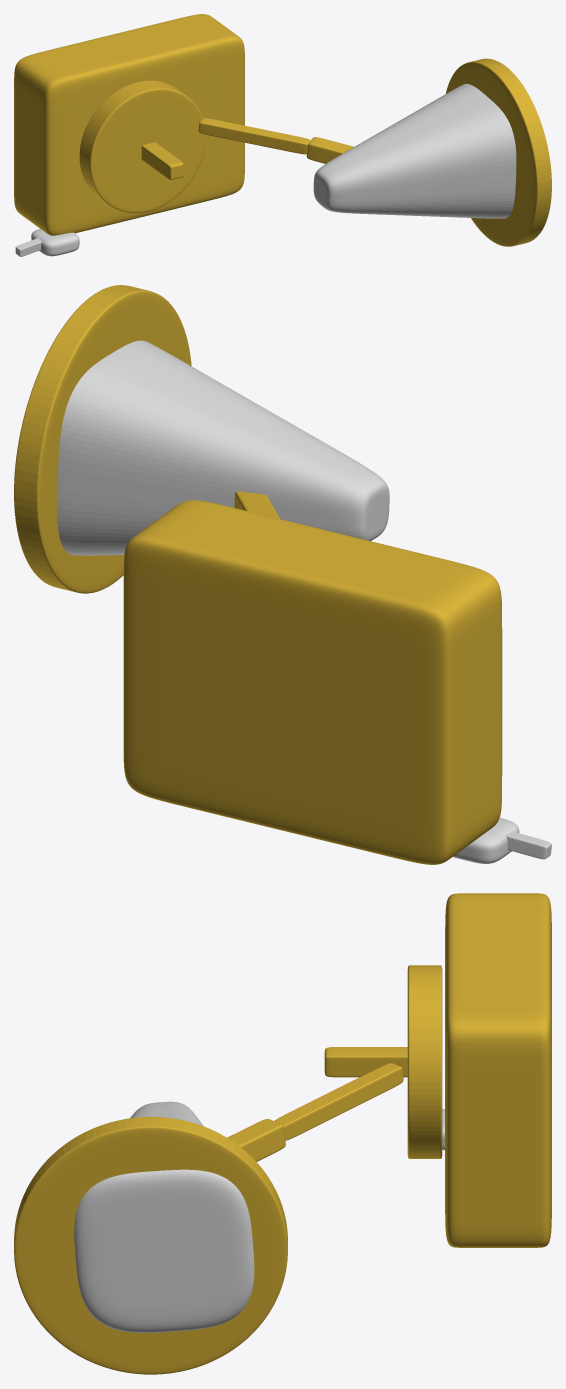
The model's file is antique_gramophone_sq.glb.
3 renders of one model, top to bottom at view 1: azimuth 30°, elevation 25°; view 2: azimuth 150°, elevation 25°; view 3: azimuth 270°, elevation 25°, orthographic. The views are drawn at different scales.
Parts seen in each view (by area): view 1: superquadric_0, superquadric_5, superquadric_1, superquadric_6, superquadric_3, superquadric_2, superquadric_7, superquadric_4, superquadric_8; view 2: superquadric_0, superquadric_5, superquadric_6, superquadric_7, superquadric_8, superquadric_4; view 3: superquadric_0, superquadric_6, superquadric_5, superquadric_1, superquadric_3, superquadric_2, superquadric_4.
Part boxes in pixels (x1,y1,x2,y2): superquadric_0: [14, 14, 244, 235]; superquadric_5: [313, 83, 516, 218]; superquadric_1: [79, 80, 206, 212]; superquadric_6: [446, 58, 551, 246]; superquadric_3: [198, 118, 310, 154]; superquadric_2: [141, 142, 183, 179]; superquadric_7: [31, 229, 79, 256]; superquadric_4: [306, 137, 353, 163]; superquadric_8: [15, 238, 41, 256]; superquadric_0: [123, 500, 502, 864]; superquadric_5: [57, 340, 389, 555]; superquadric_6: [14, 285, 191, 593]; superquadric_7: [453, 818, 519, 863]; superquadric_8: [505, 831, 551, 859]; superquadric_4: [234, 491, 279, 518]; superquadric_0: [445, 893, 551, 1247]; superquadric_6: [14, 1116, 287, 1374]; superquadric_5: [74, 1101, 254, 1332]; superquadric_1: [407, 965, 442, 1158]; superquadric_3: [274, 1063, 403, 1140]; superquadric_2: [324, 1047, 407, 1077]; superquadric_4: [227, 1119, 285, 1161].
Bounding box in the file's own units: 1 × 0.4377 × 0.8291.
